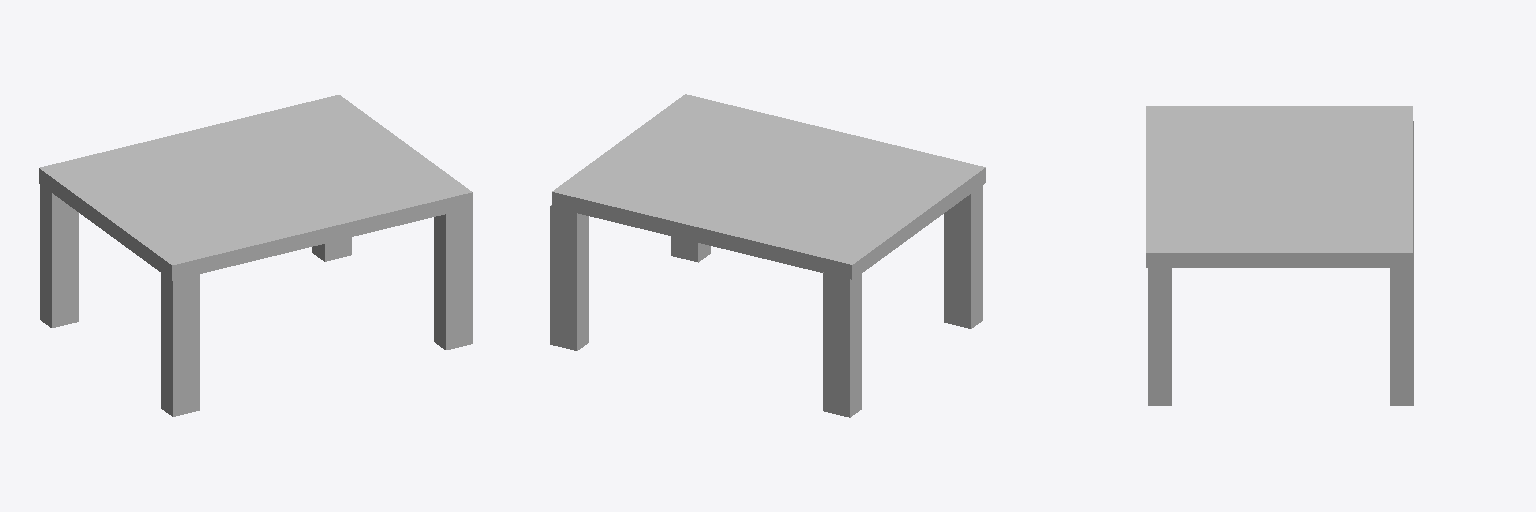
Rendered from tavolo.obj.
3 views of the same model, side by side, from view 1: azimuth 30°, elevation 25°; view 2: azimuth 150°, elevation 25°; view 3: azimuth 270°, elevation 25° (orthographic).
Visible parts, largest first — view 1: tavolo_Leg_low_Cube.002; view 2: tavolo_Leg_low_Cube.002; view 3: tavolo_Leg_low_Cube.002.
Part boxes in pixels (x1,y1,x2,y2): tavolo_Leg_low_Cube.002: (39,95,472,416); tavolo_Leg_low_Cube.002: (550,94,985,417); tavolo_Leg_low_Cube.002: (1146,106,1413,405).
Size of the model in its own units: 7.18 by 3.47 by 5.53.